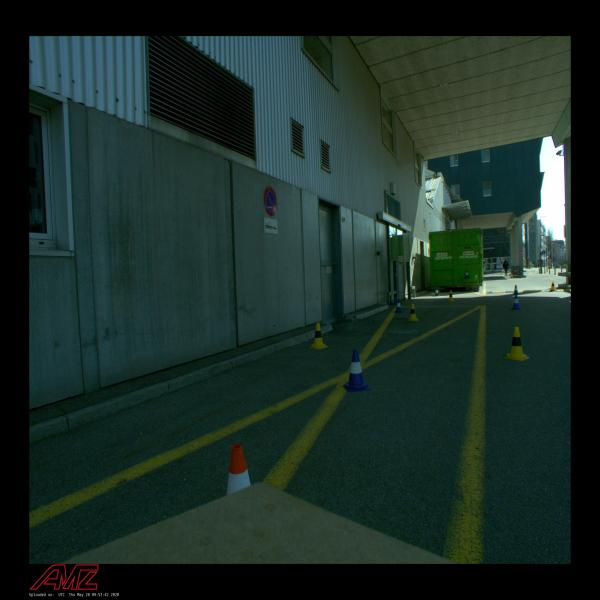blue_cone: (343, 350, 371, 392), (512, 295, 521, 310), (394, 299, 403, 313), (513, 285, 519, 295), (434, 287, 439, 297)
orange_cone: (226, 444, 252, 497)
yellow_cone: (503, 327, 530, 361), (308, 323, 329, 350), (407, 304, 419, 321), (448, 290, 454, 302), (550, 281, 556, 291)
